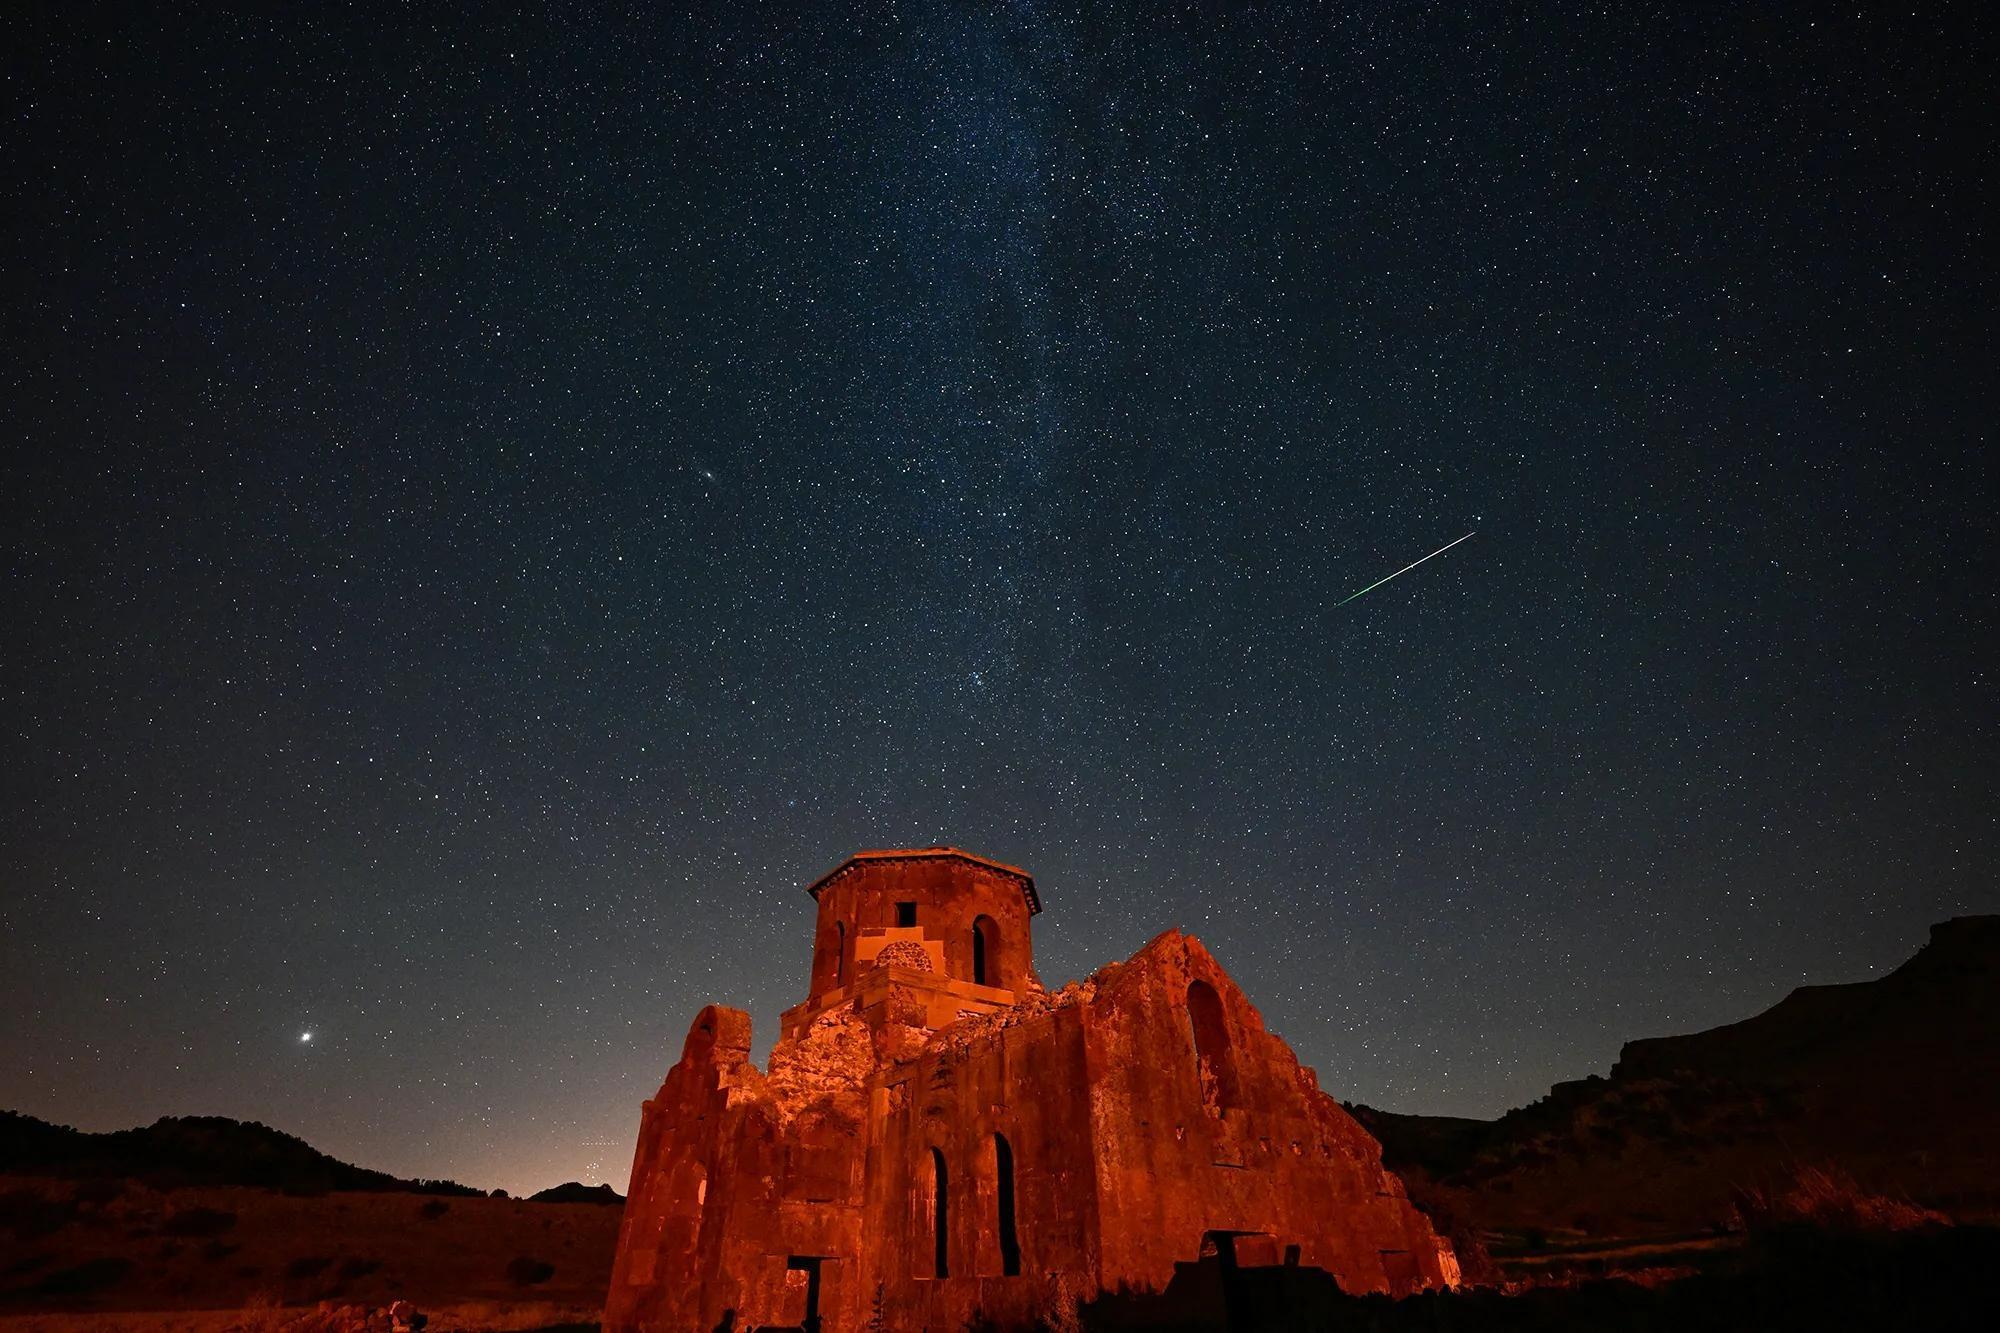meteorite: (1283, 516, 1500, 626)
